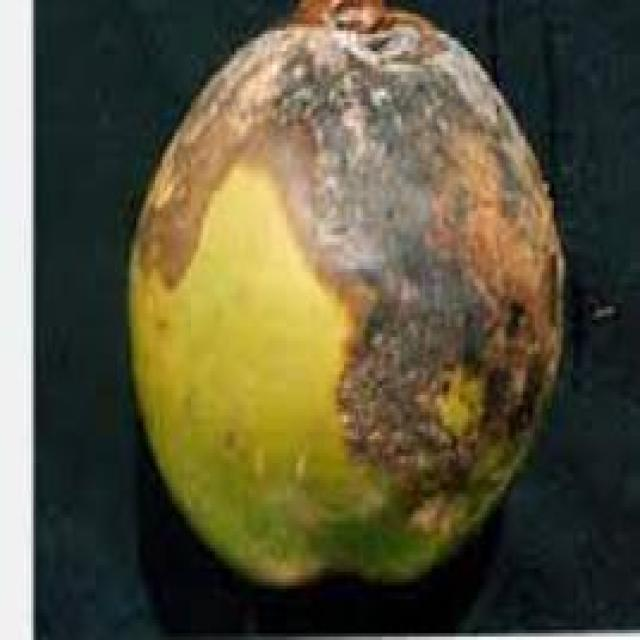damaged: (131, 0, 564, 589)
